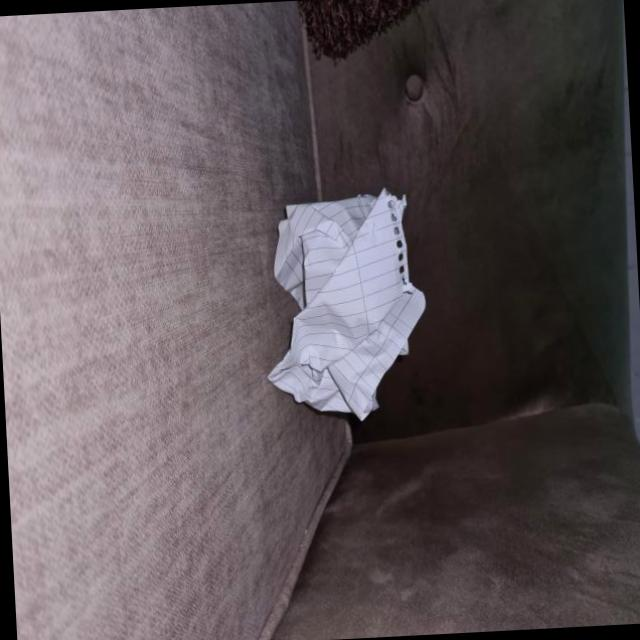cardboard paper: (269, 189, 425, 418)
